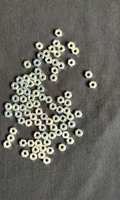nut: (43, 157, 51, 165), (38, 152, 46, 160), (21, 150, 29, 158), (32, 146, 40, 154), (34, 132, 42, 140), (55, 129, 63, 137), (39, 124, 47, 132), (50, 124, 58, 132), (68, 121, 76, 129), (35, 108, 43, 116), (85, 71, 93, 79), (37, 85, 45, 93), (16, 88, 24, 96), (29, 73, 37, 81), (50, 74, 58, 82), (33, 59, 41, 67), (68, 59, 76, 67), (72, 47, 80, 55), (68, 42, 76, 50), (55, 29, 63, 37), (30, 153, 37, 161), (47, 147, 54, 155), (40, 145, 47, 153), (59, 144, 66, 152), (67, 138, 75, 145), (20, 140, 27, 148), (4, 141, 11, 149), (7, 135, 15, 142), (27, 140, 35, 147), (35, 140, 42, 148), (44, 139, 51, 147), (76, 129, 83, 137), (42, 132, 49, 140), (49, 132, 56, 140), (62, 132, 70, 139), (61, 123, 68, 131), (5, 103, 12, 111), (18, 117, 25, 125), (25, 120, 33, 127), (34, 119, 42, 126), (46, 118, 53, 126), (53, 115, 60, 123), (60, 115, 67, 123), (67, 113, 74, 121), (75, 111, 83, 118), (30, 113, 37, 121), (41, 113, 48, 121), (24, 110, 32, 117), (12, 104, 19, 112), (19, 104, 26, 112), (50, 103, 57, 111), (57, 106, 64, 114), (64, 107, 71, 115), (12, 95, 19, 103), (20, 96, 27, 104), (64, 100, 72, 107), (65, 91, 72, 99), (45, 97, 53, 104), (33, 90, 40, 98), (11, 83, 19, 90), (20, 82, 28, 89), (16, 77, 24, 84), (27, 80, 34, 88), (52, 67, 59, 75), (24, 61, 31, 69), (38, 52, 45, 60), (58, 62, 65, 70), (45, 57, 53, 64), (36, 42, 43, 50), (58, 45, 65, 53), (53, 40, 61, 47), (10, 128, 17, 135), (5, 111, 12, 118), (15, 111, 22, 118), (26, 102, 33, 109), (33, 101, 40, 108), (28, 95, 35, 102), (58, 97, 65, 104), (90, 82, 97, 89), (39, 94, 46, 101), (24, 89, 31, 96), (34, 79, 41, 86), (23, 75, 30, 82), (39, 74, 46, 81), (35, 68, 42, 75), (52, 59, 59, 66), (43, 50, 50, 57), (54, 51, 61, 58), (49, 46, 56, 53)
